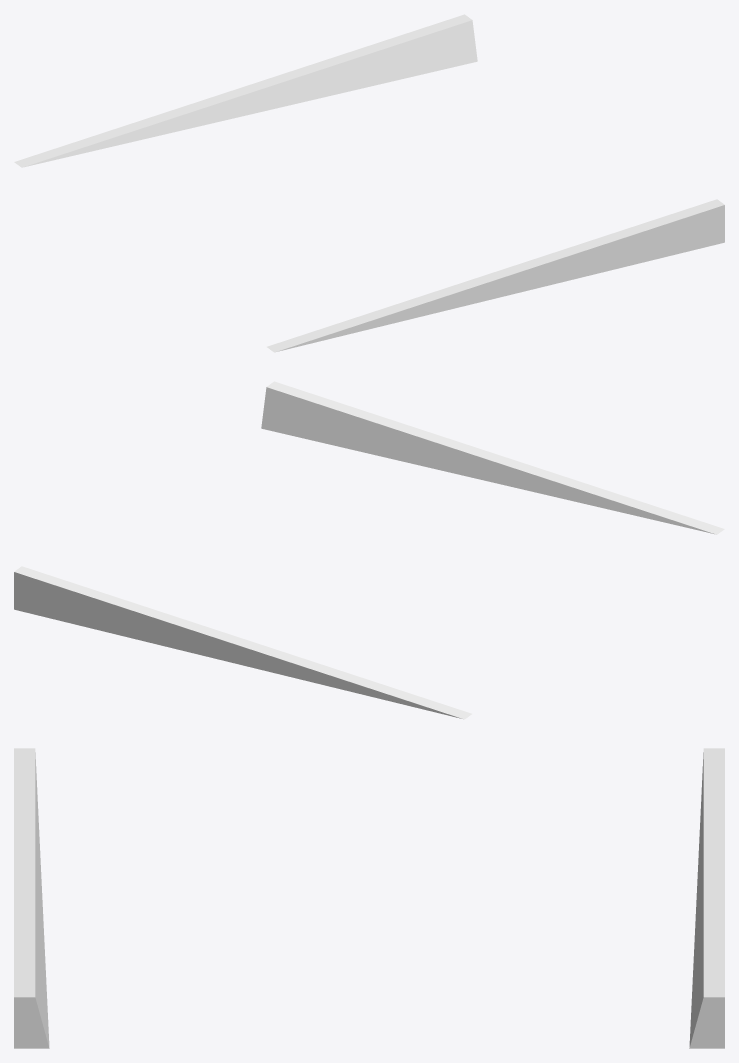
The model's file is kenney-city-roads-road-straight-barrier-end.glb.
The picture shows the model from 3 angles, top to bottom: view 1: azimuth 30°, elevation 25°; view 2: azimuth 150°, elevation 25°; view 3: azimuth 270°, elevation 25°; orthographic projection. The views are drawn at different scales.
Visible parts, largest first — view 1: road-straight-barrier-end; view 2: road-straight-barrier-end; view 3: road-straight-barrier-end.
Part boxes in pixels (box(x1,y1,x2,y2)): road-straight-barrier-end: box(14, 14, 724, 352); road-straight-barrier-end: box(14, 381, 724, 719); road-straight-barrier-end: box(14, 748, 724, 1048).
Bounding box in the file's own units: 1 × 0.08 × 1.
Materials: 1 (1 with a texture image).
